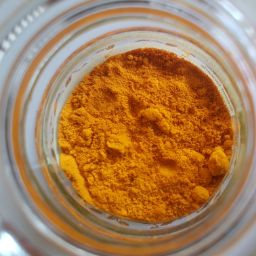Turmeric dried: (65, 48, 231, 217), (46, 95, 233, 205)
